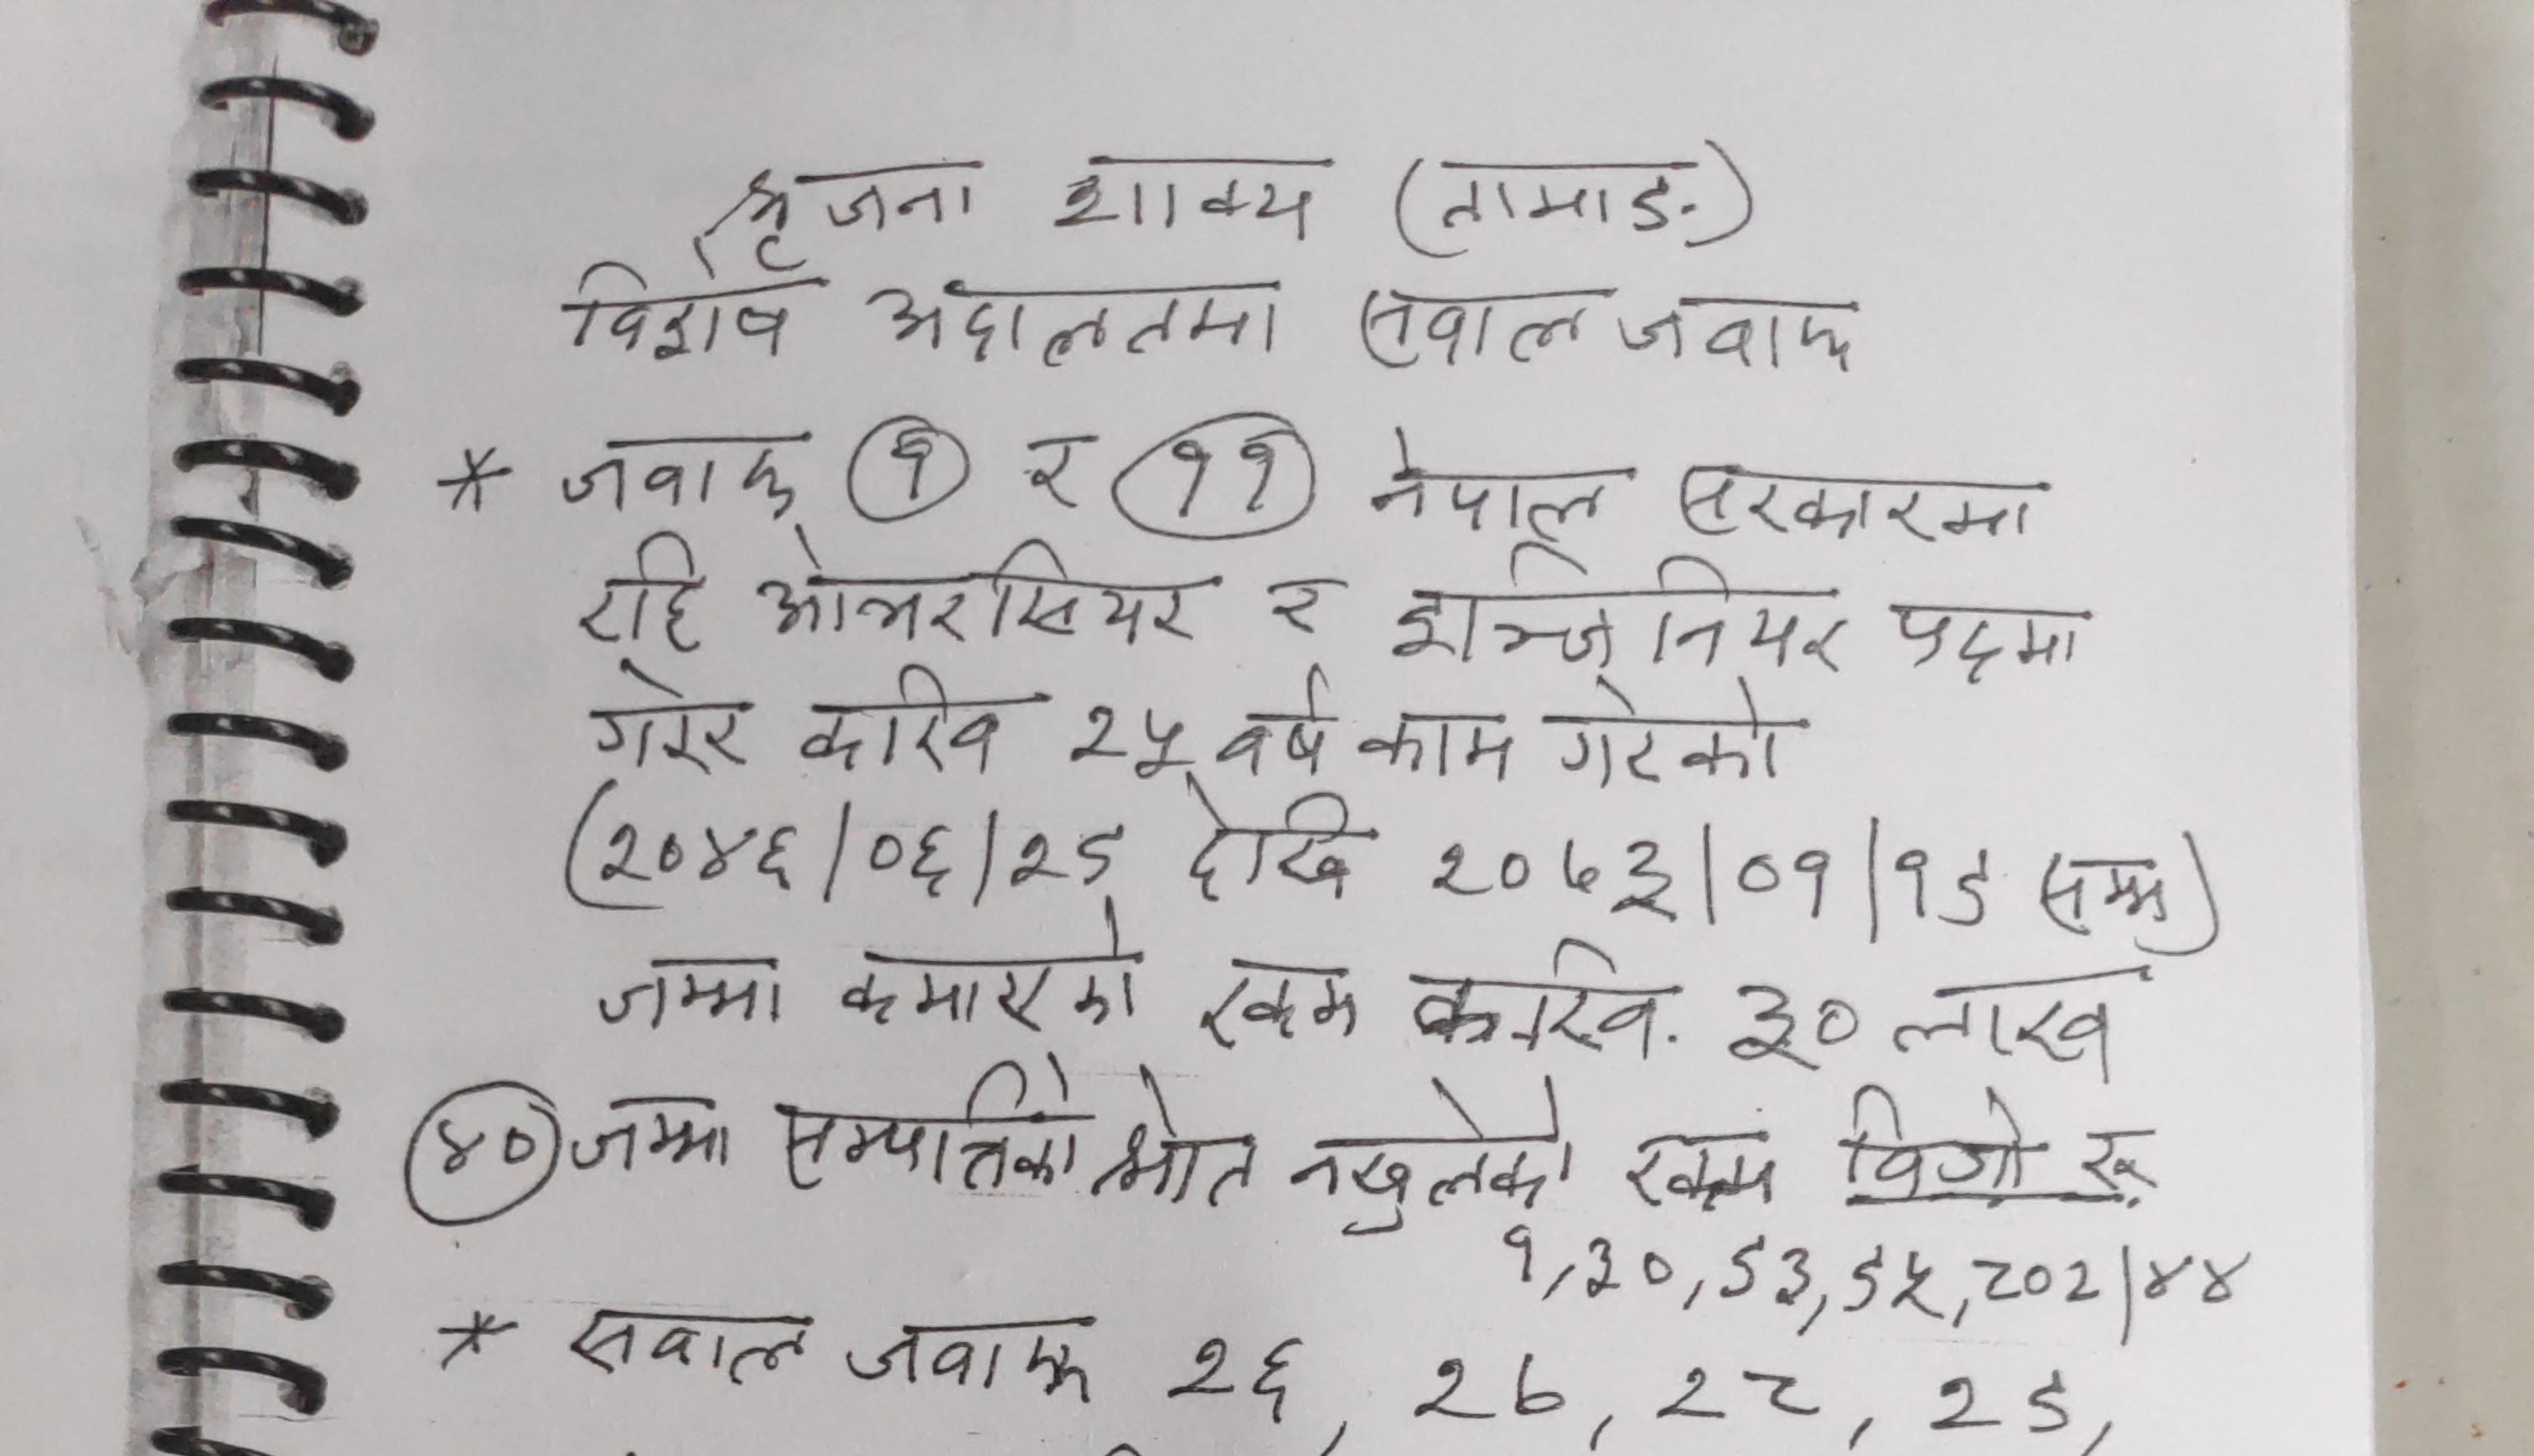text: (1411, 823, 1991, 934), (1385, 543, 1855, 671), (750, 525, 1204, 656), (590, 802, 1133, 903), (1281, 1070, 1575, 1230), (863, 271, 1298, 371), (778, 1054, 1083, 1192), (1674, 449, 2059, 551), (835, 910, 1140, 1035), (1401, 929, 1673, 1061), (708, 153, 994, 275), (1364, 417, 1620, 548), (1538, 671, 1793, 790), (1424, 141, 1700, 245), (1042, 151, 1335, 249), (553, 261, 813, 371), (792, 661, 1008, 790), (1892, 965, 2127, 1079), (557, 433, 821, 529), (837, 1310, 1095, 1407), (1102, 1056, 1258, 1214), (1617, 284, 1874, 377), (1182, 786, 1371, 910), (560, 1296, 816, 1386), (1352, 280, 1603, 372), (1831, 1080, 2036, 1186), (1885, 581, 2085, 689), (587, 659, 757, 779), (569, 536, 727, 665), (1196, 945, 1364, 1058), (590, 945, 790, 1039), (1208, 661, 1342, 786), (2022, 844, 2182, 948), (1354, 687, 1521, 786), (1613, 1131, 1786, 1221), (1417, 1348, 1579, 1444), (1719, 974, 1860, 1079), (564, 1092, 738, 1176), (1168, 1317, 1295, 1430), (1650, 1353, 1813, 1440), (1065, 692, 1196, 790), (1923, 1366, 2076, 1444), (1843, 1233, 1956, 1326), (1161, 435, 1276, 525), (1972, 1247, 2097, 1317), (1264, 555, 1354, 651), (428, 1101, 543, 1176), (2069, 1124, 2169, 1209), (1719, 1225, 1810, 1315), (1579, 1226, 1679, 1303), (1015, 416, 1095, 510), (2137, 1242, 2245, 1312), (875, 426, 947, 501), (1498, 1221, 1549, 1287)
